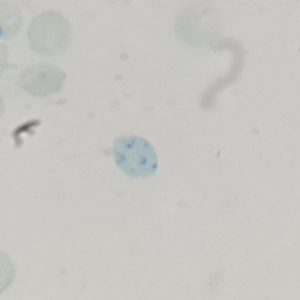aggregate reticulocyte: (109, 134, 161, 180)
erythrocyte: (24, 8, 73, 60), (15, 61, 69, 98)
punctate reticulocyte: (172, 2, 229, 49)
